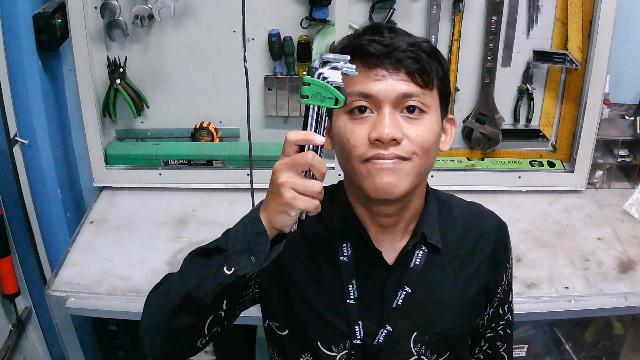kunci_l: (287, 53, 361, 235)
